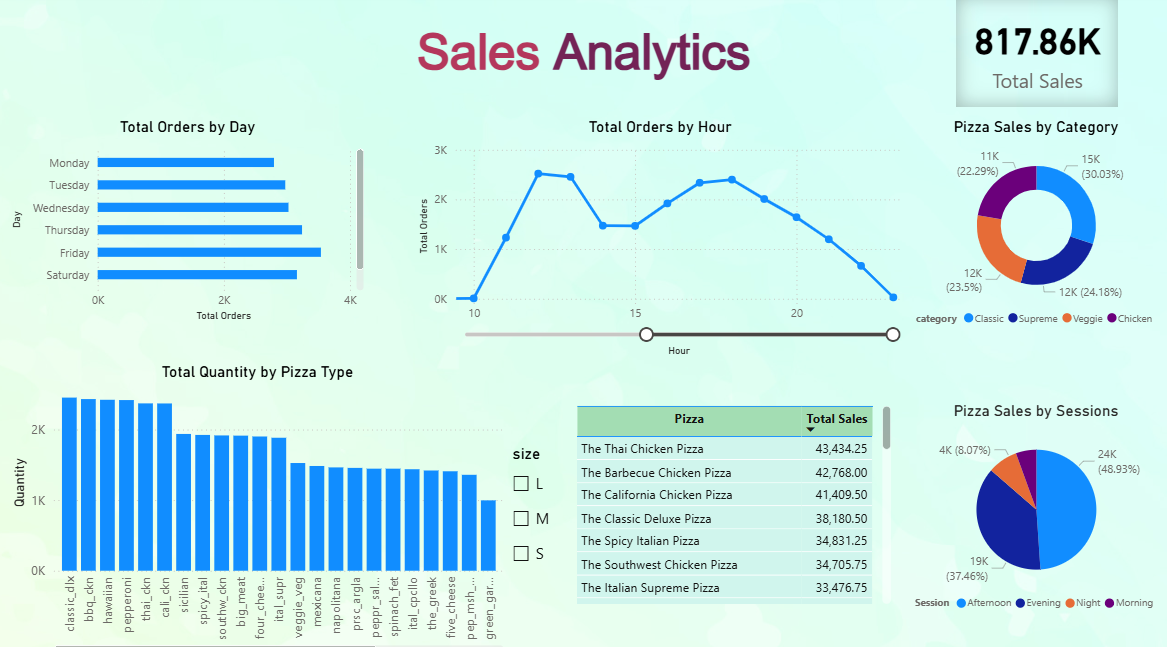

The page's visual inventory and layout, read from the dashboard file:
{"tool":"powerbi","page":{"name":"Page 1","canvas":[1280,720],"ordinal":0},"visuals":[{"type":"lineChart","fields":{"Y":["orders.Total Orders","select"],"Category":["orders.Hour"]},"box":[453.3,135,535,263.3],"z":0},{"type":"clusteredColumnChart","title":"Total Quantity by Pizza Type","fields":{"Category":["pizza_types.pizza_type_id"],"Y":["order_details.Total Quantity"]},"box":[13.3,400,543.3,320],"z":1000},{"type":"barChart","title":"Total Orders by Day","fields":{"Y":["orders.Total Orders"],"Category":["orders.DayName"]},"box":[13.3,135,391.7,225],"z":2000},{"type":"listSlicer","fields":{"Values":["pizzas.size"]},"box":[556.7,490,55,140],"z":3000},{"type":"card","fields":{"Values":["order_details.Total Sales"]},"box":[1043.3,3.3,175,120],"z":4000},{"type":"pivotTable","fields":{"Rows":["pizza_types.name"],"Values":["order_details.Total Sales"]},"box":[626.7,441.7,350,225],"z":5000},{"type":"pieChart","title":"Pizza Sales by Sessions","fields":{"Category":["orders.Session"],"Y":["Sum(order_details.quantity)"]},"box":[988.3,441.7,280,236.7],"z":6000},{"type":"donutChart","title":"Pizza Sales by Category","fields":{"Category":["pizza_types.category"],"Y":["order_details.Total Quantity"]},"box":[988.3,135,280,235],"z":7000},{"type":"textbox","box":[341.6,19.5,593.7,89.5],"z":8000}]}

Visuals, with their boxes in screenshot pixels (x1, y1, x2, y2), scaled from the page's 1280x720 canvas onto the 1167x647 screenshot:
lineChart - orders.Total Orders x select: (left=413, top=121, right=901, bottom=358)
"Total Quantity by Pizza Type" clusteredColumnChart: (left=12, top=359, right=507, bottom=646)
"Total Orders by Day" barChart: (left=12, top=121, right=369, bottom=324)
listSlicer - pizzas.size: (left=508, top=440, right=558, bottom=566)
card - order_details.Total Sales: (left=951, top=3, right=1111, bottom=111)
pivotTable - pizza_types.name x order_details.Total Sales: (left=571, top=397, right=890, bottom=599)
"Pizza Sales by Sessions" pieChart: (left=901, top=397, right=1156, bottom=610)
"Pizza Sales by Category" donutChart: (left=901, top=121, right=1156, bottom=332)
textbox: (left=311, top=18, right=853, bottom=98)
